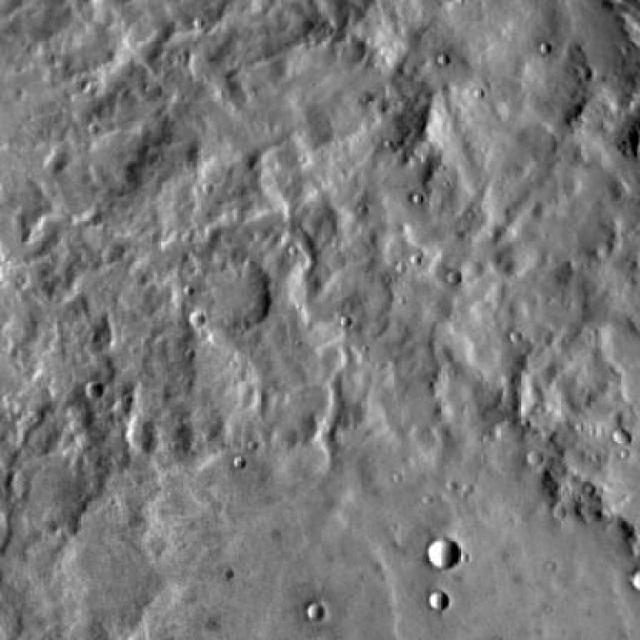crater: (120, 422, 154, 455), (428, 538, 460, 571), (429, 591, 448, 609), (85, 380, 104, 398), (192, 308, 208, 326), (308, 603, 324, 620), (524, 454, 542, 469), (616, 430, 627, 448)
